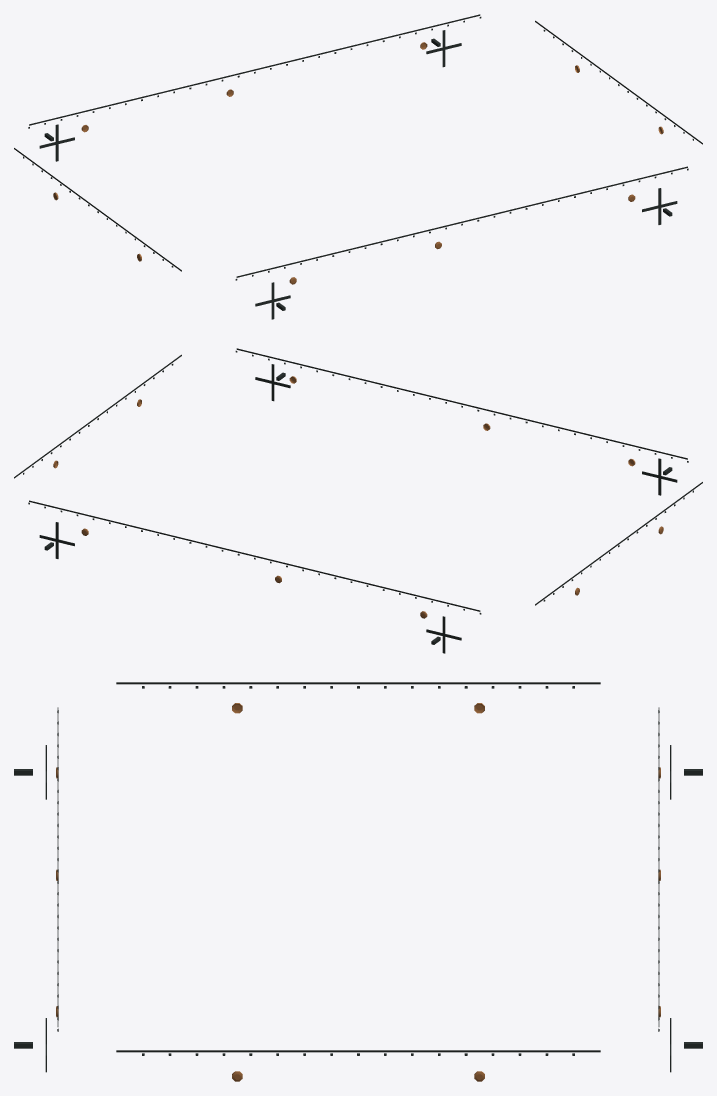
The model's file is moss_hover_barge_detail2.glb.
3 renders of one model, top to bottom at view 1: azimuth 30°, elevation 25°; view 2: azimuth 150°, elevation 25°; view 3: azimuth 270°, elevation 25°, orthographic. The views are drawn at different scales.
Parts seen in each view (by area): view 1: Detail2; view 2: Detail2; view 3: Detail2.
Part boxes in pixels (x1,y1,x2,y2): Detail2: (14,14,702,319); Detail2: (14,348,702,653); Detail2: (14,682,702,1081).
Bounding box in the file's own units: 64.98 × 5.63 × 51.2.
